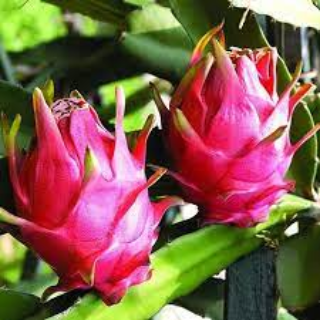thanh_long: (155, 40, 309, 226), (14, 99, 161, 292)
